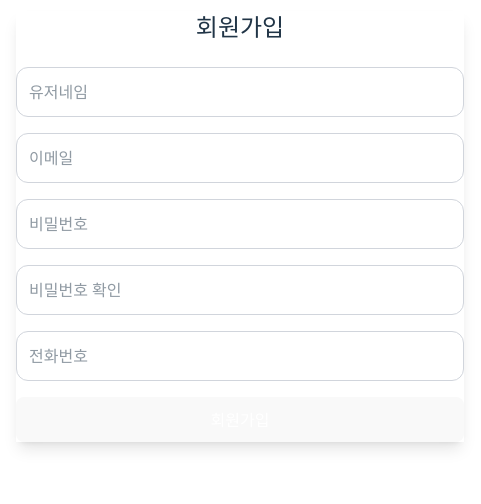
Test: 🔹 RegisterForm 유닛 테스트 › 비밀번호 확인 불일치 시 오류 메시지를 표시해야 함
Type "password123" into the password field with placeholder "비밀번호" at point(240, 224), box [16,199,464,249]
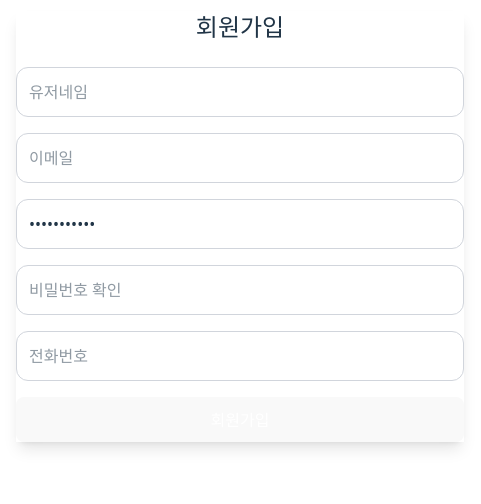
Type "wrongpass" into the password field with placeholder "비밀번호 확인" at point(240, 290), box [16,265,464,315]
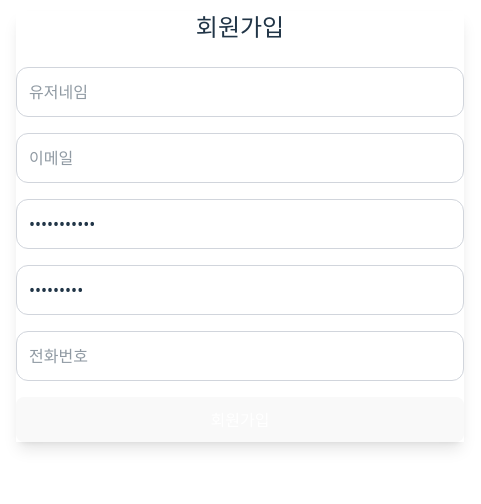
Click the button "회원가입" at point(240, 420), box [16,397,464,442]
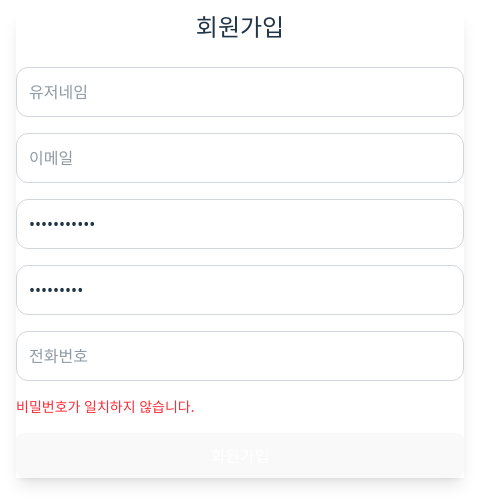
Result: the text "비밀번호가 일치하지 않습니다." is shown at [16,397,194,416]
